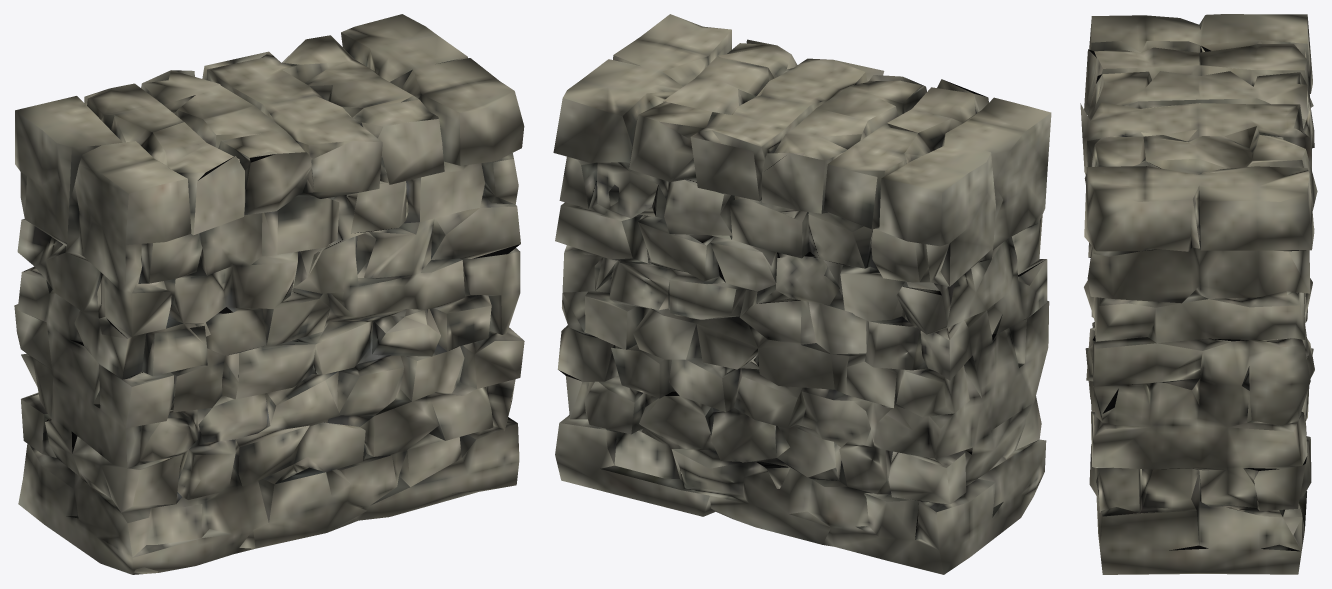
Rendered from wall.glb.
3 views of the same model, side by side, from view 1: azimuth 30°, elevation 25°; view 2: azimuth 150°, elevation 25°; view 3: azimuth 270°, elevation 25° (orthographic). The views are drawn at different scales.
Visible parts, largest first — view 1: Mesh_0.001; view 2: Mesh_0.001; view 3: Mesh_0.001.
Part boxes in pixels (box(x1,y1,x2,y2)): Mesh_0.001: box(14, 14, 524, 574); Mesh_0.001: box(553, 14, 1051, 574); Mesh_0.001: box(1080, 14, 1317, 574).
Size of the model in its own units: 1.91 by 1.83 by 1.02.
Materials: 1 (1 with a texture image).
